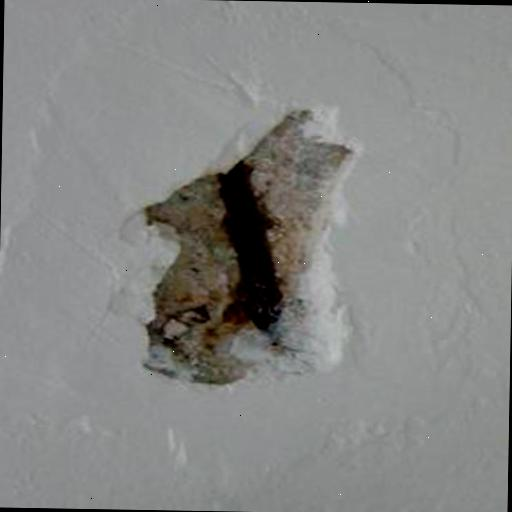spalling: (122, 101, 365, 397)
